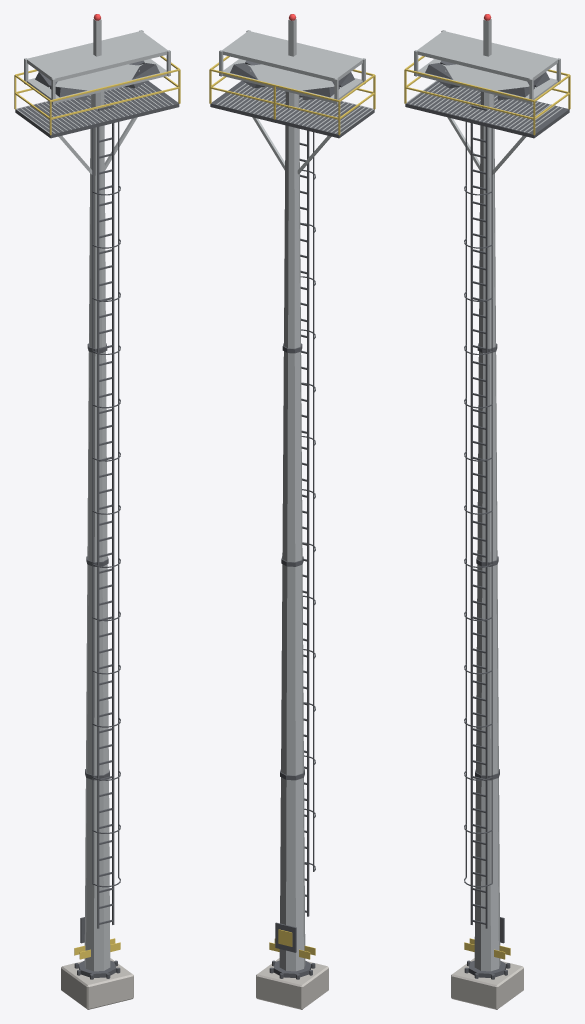
The model's file is flood_mast.glb.
The picture shows the model from 3 angles, left to right: view 1: azimuth 30°, elevation 25°; view 2: azimuth 150°, elevation 25°; view 3: azimuth 330°, elevation 25°; orthographic projection.
Visible parts, largest first — view 1: fl_mast_mesh; view 2: fl_mast_mesh; view 3: fl_mast_mesh.
Part boxes in pixels (x1,y1,x2,y2): fl_mast_mesh: (14, 14, 180, 1009); fl_mast_mesh: (209, 14, 375, 1009); fl_mast_mesh: (404, 14, 570, 1009).
Bounding box in the file's own units: 3.84 × 27.65 × 1.84.
